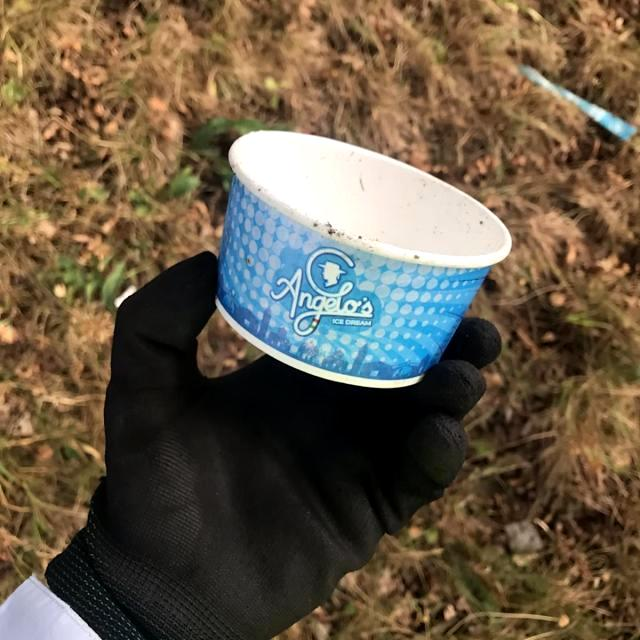Paper: (212, 126, 514, 390)
